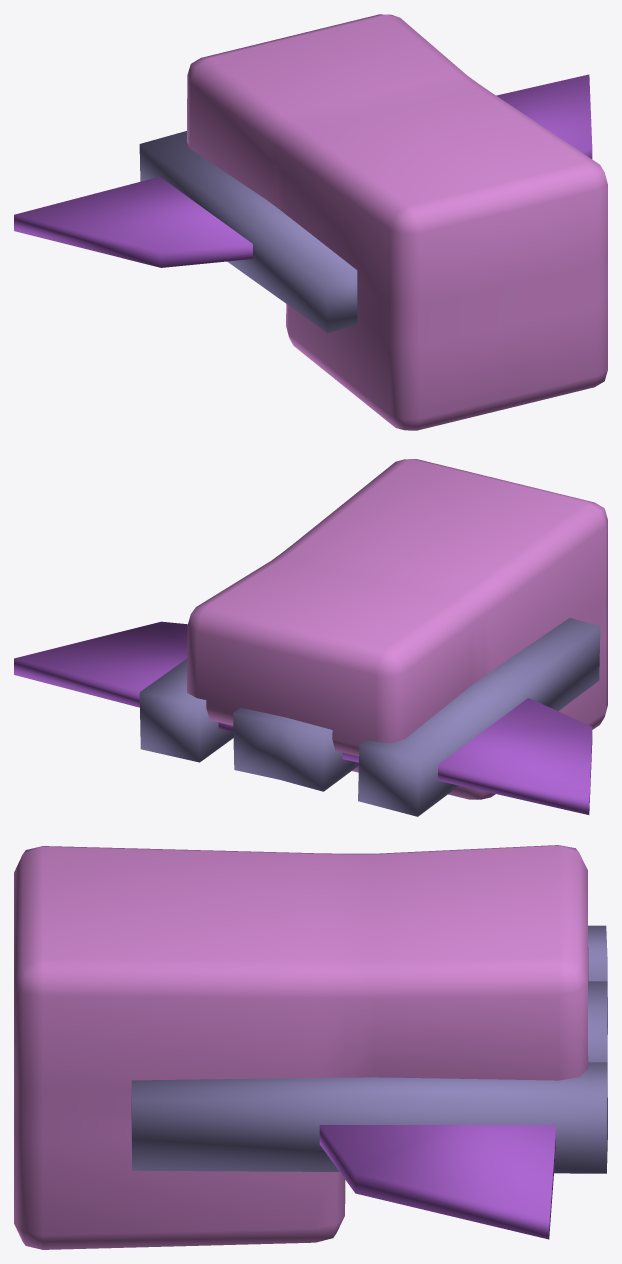
Rendered from ship_22.gltf.
The picture shows the model from 3 angles, top to bottom: view 1: azimuth 30°, elevation 25°; view 2: azimuth 150°, elevation 25°; view 3: azimuth 270°, elevation 25°; orthographic projection. The views are drawn at different scales.
Visible parts, largest first — view 1: gtlf; view 2: gtlf; view 3: gtlf.
Boxes of the visible parts, x1,y1,x2,y2 form: gtlf: [14, 14, 607, 430]; gtlf: [14, 459, 607, 816]; gtlf: [14, 845, 607, 1249].
Bounding box in the file's own units: 1.82 × 0.6827 × 1.26.
